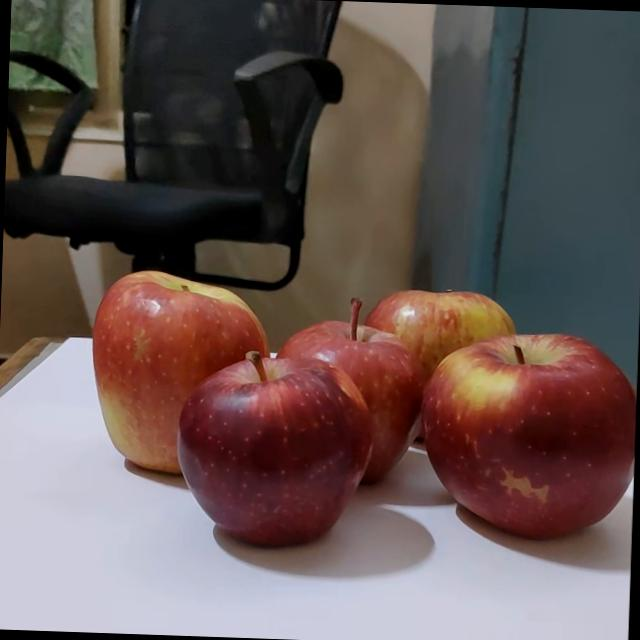apple: (405, 318, 640, 541), (160, 336, 377, 548), (84, 255, 280, 472), (268, 279, 434, 486), (356, 284, 530, 439)
